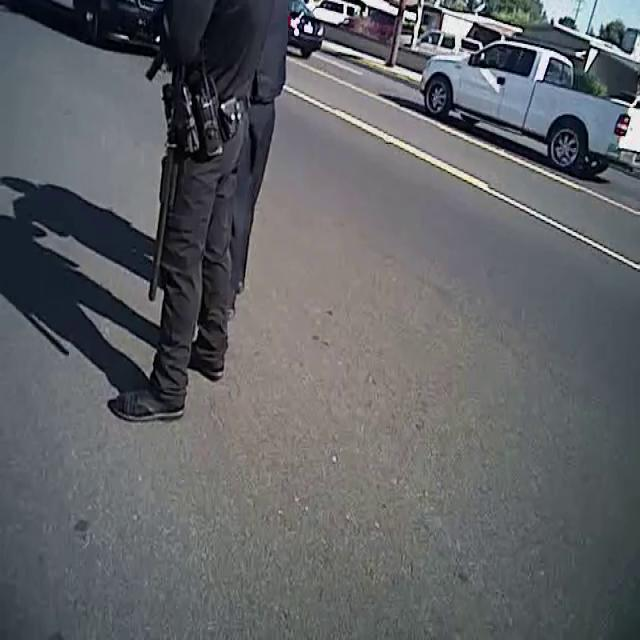gun: (141, 31, 177, 93)
